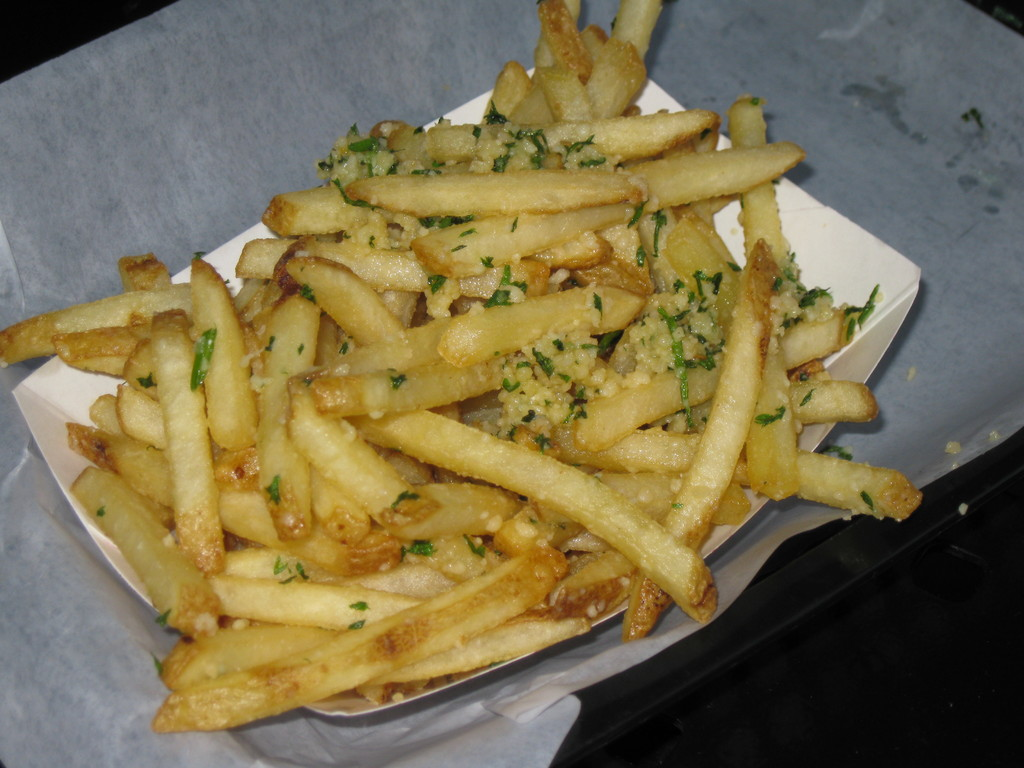French fries: (138, 106, 938, 727)
